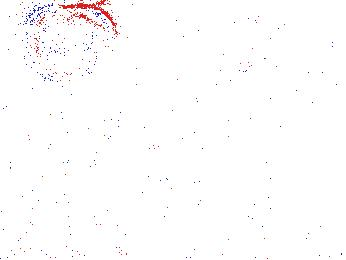moon jellyfish: (22, 5, 92, 83), (281, 1, 346, 81), (235, 9, 297, 77), (58, 5, 118, 71)
